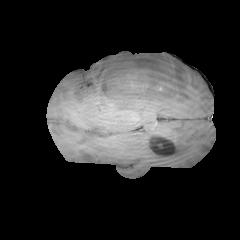glioma: (98, 52, 187, 112)
